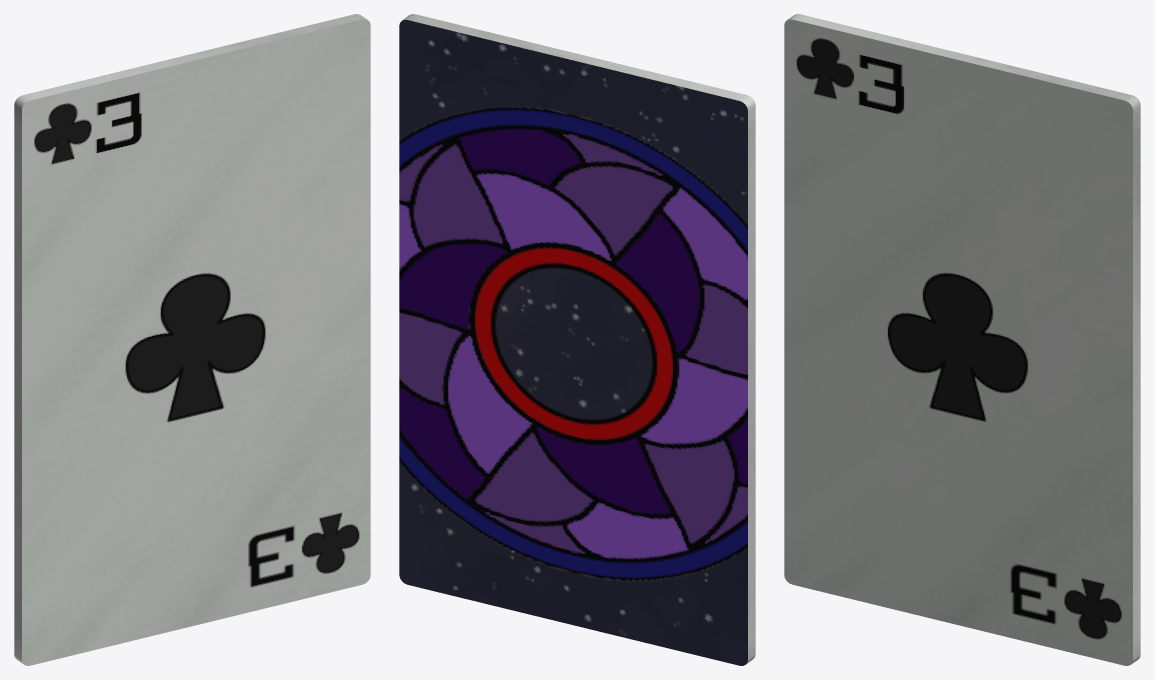
Rendered from Card.fbx.
The picture shows the model from 3 angles, left to right: view 1: azimuth 30°, elevation 25°; view 2: azimuth 150°, elevation 25°; view 3: azimuth 330°, elevation 25°; orthographic projection.
Visible parts, largest first — view 1: Card; view 2: Card; view 3: Card.
Boxes of the visible parts, left/top/right/bottom form: Card: left=14, top=14, right=370, bottom=665; Card: left=399, top=14, right=755, bottom=665; Card: left=784, top=14, right=1140, bottom=665.
Size of the model in its own units: 0.7013 by 1.09 by 0.0267.
